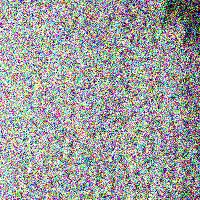patches: (160, 2, 200, 49)
pitted_surface: (3, 8, 196, 192)
